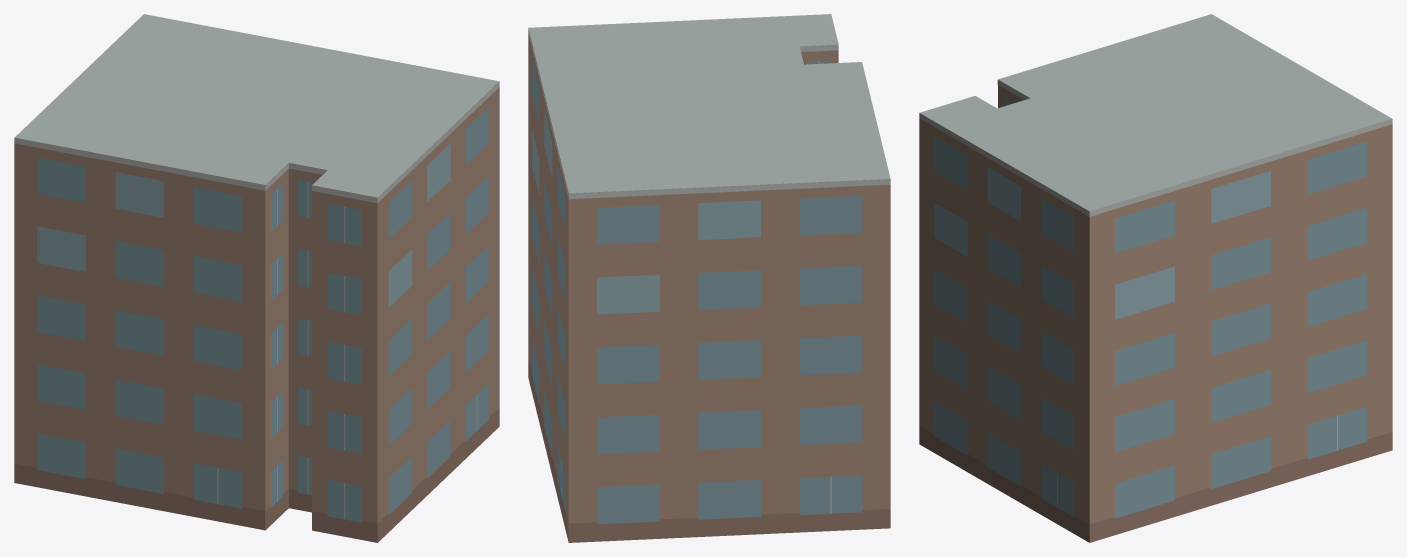
File: survey-upis-32936509.glb
3 renders of one model, left to right at view 1: azimuth 30°, elevation 25°; view 2: azimuth 150°, elevation 25°; view 3: azimuth 270°, elevation 25°, orthographic. The views are drawn at different scales.
Parts seen in each view (by area): view 1: survey-upis-32936509.tmp; view 2: survey-upis-32936509.tmp; view 3: survey-upis-32936509.tmp.
Boxes of the visible parts, left/top/right/bottom form: survey-upis-32936509.tmp: left=14, top=14, right=499, bottom=542; survey-upis-32936509.tmp: left=528, top=14, right=890, bottom=542; survey-upis-32936509.tmp: left=919, top=14, right=1392, bottom=542.
Size of the model in its own units: 18.92 by 14.8 by 19.16.
